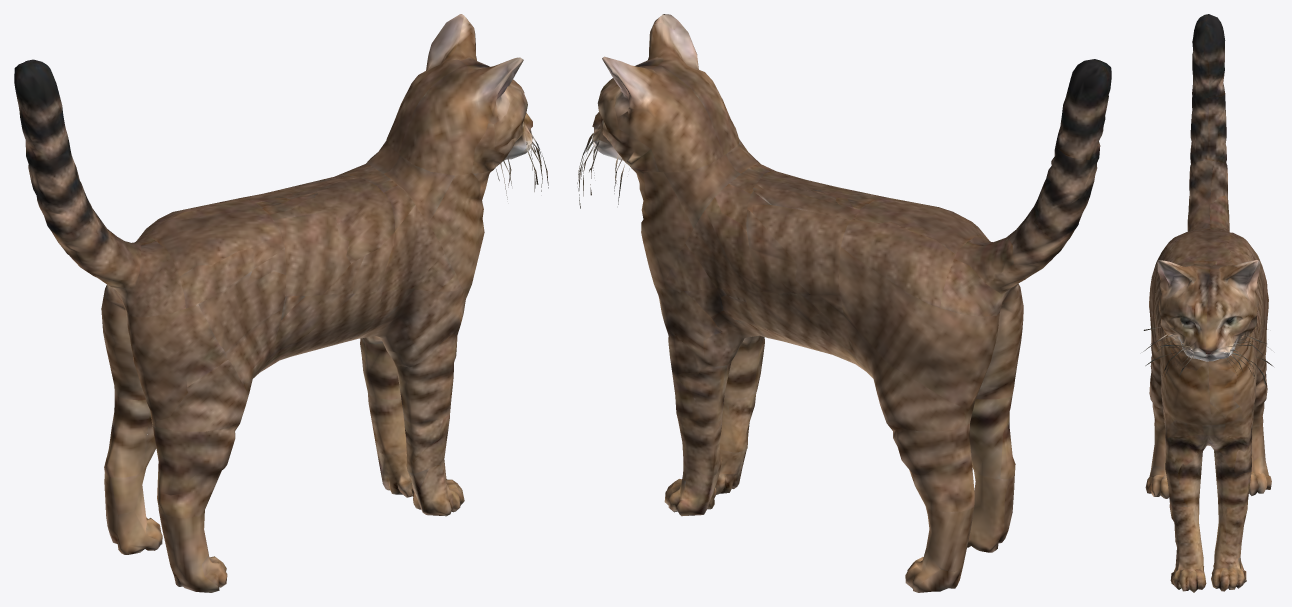
Rendered from DOORKINS-lo.glb.
The picture shows the model from 3 angles, left to right: view 1: azimuth 30°, elevation 25°; view 2: azimuth 150°, elevation 25°; view 3: azimuth 270°, elevation 25°; orthographic projection. The views are drawn at different scales.
Parts seen in each view (by area): view 1: tripo_node_188a6474-a867-43fa-a588-cdb2dedd581e; view 2: tripo_node_188a6474-a867-43fa-a588-cdb2dedd581e; view 3: tripo_node_188a6474-a867-43fa-a588-cdb2dedd581e.
Part boxes in pixels (bbox=[...]): tripo_node_188a6474-a867-43fa-a588-cdb2dedd581e: bbox=[14, 14, 548, 592]; tripo_node_188a6474-a867-43fa-a588-cdb2dedd581e: bbox=[577, 14, 1111, 592]; tripo_node_188a6474-a867-43fa-a588-cdb2dedd581e: bbox=[1143, 14, 1273, 592].
Size of the model in its own units: 0.9984 by 0.9993 by 0.2954.
1 material, 1 textured.
